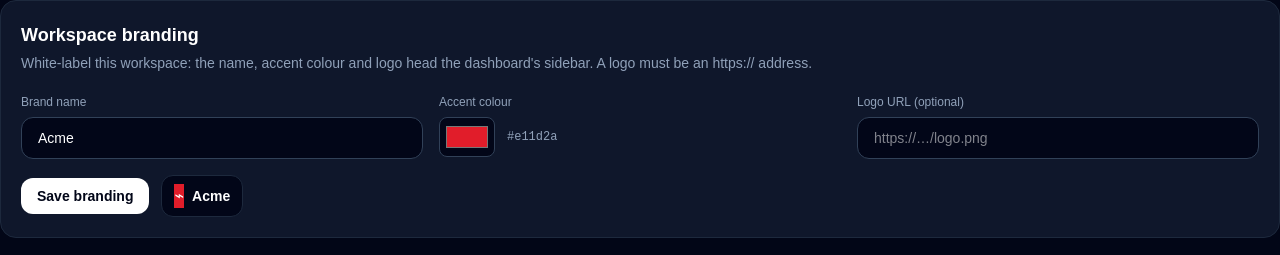
Test: BrandingSettingsCard › shows the server's reason when a save is refused
Click the button "Save branding": (85, 196) [21,178,150,214]
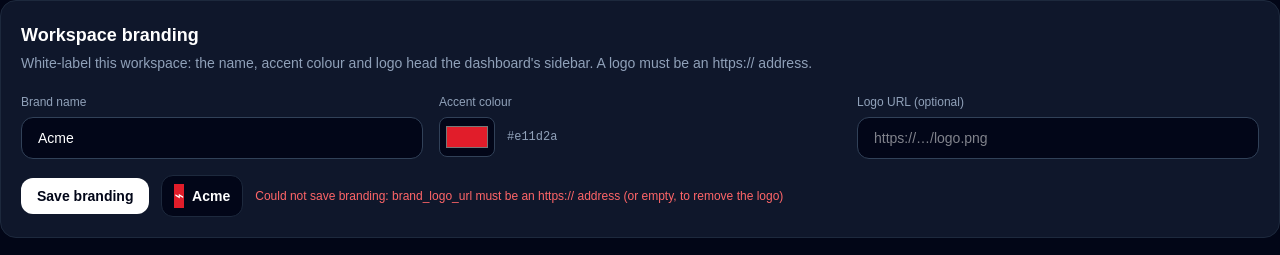
expect the text "Could not save branding" shows "Could not save branding: brand_logo_url must be an https:// address (or empty, to remove the logo)": met, box [255,189,783,203]
